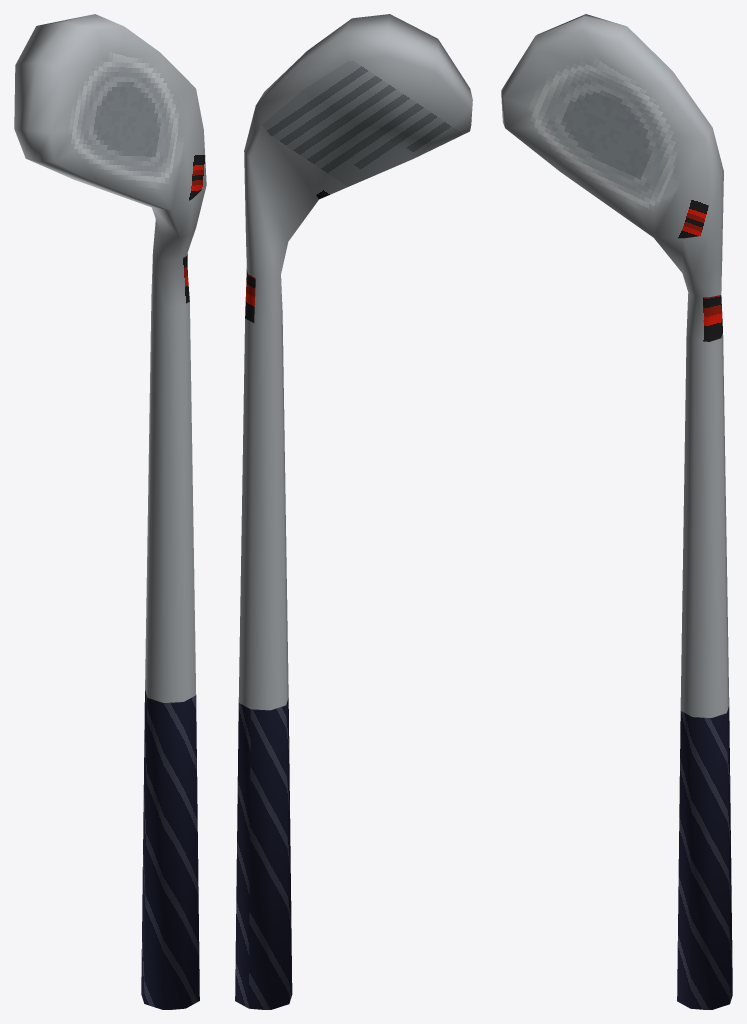
The model's file is club_5i.glb.
3 views of the same model, side by side, from view 1: azimuth 30°, elevation 25°; view 2: azimuth 150°, elevation 25°; view 3: azimuth 330°, elevation 25° (orthographic). The views are drawn at different scales.
Parts seen in each view (by area): view 1: polygon1.007, polygon0.007; view 2: polygon1.007, polygon0.007; view 3: polygon1.007, polygon0.007.
Part boxes in pixels (x1=…): polygon1.007: x1=14, y1=14, x2=206, y2=702; polygon0.007: x1=141, y1=690, x2=199, y2=1009; polygon1.007: x1=238, y1=14, x2=472, y2=710; polygon0.007: x1=235, y1=698, x2=292, y2=1009; polygon1.007: x1=501, y1=14, x2=729, y2=717; polygon0.007: x1=677, y1=706, x2=732, y2=1009.
Bounding box in the file's own units: 0.0174 × 0.0809 × 0.0089.
2 materials, 2 textured.
